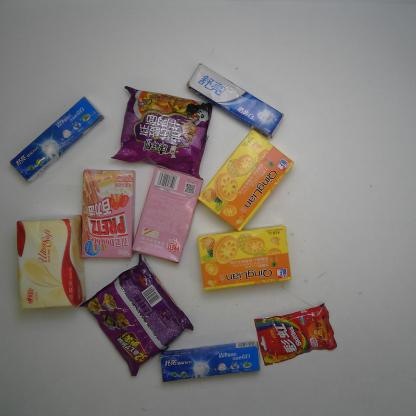Candy: (251, 302, 340, 366)
Dessert: (197, 129, 296, 232), (133, 161, 205, 268), (197, 226, 292, 292), (81, 169, 136, 262)
Instant Noodles: (76, 252, 196, 378), (110, 84, 212, 180)
Personal Hygiene: (9, 95, 104, 184), (186, 62, 282, 135), (156, 342, 260, 384)
Tissue: (14, 215, 89, 312)
